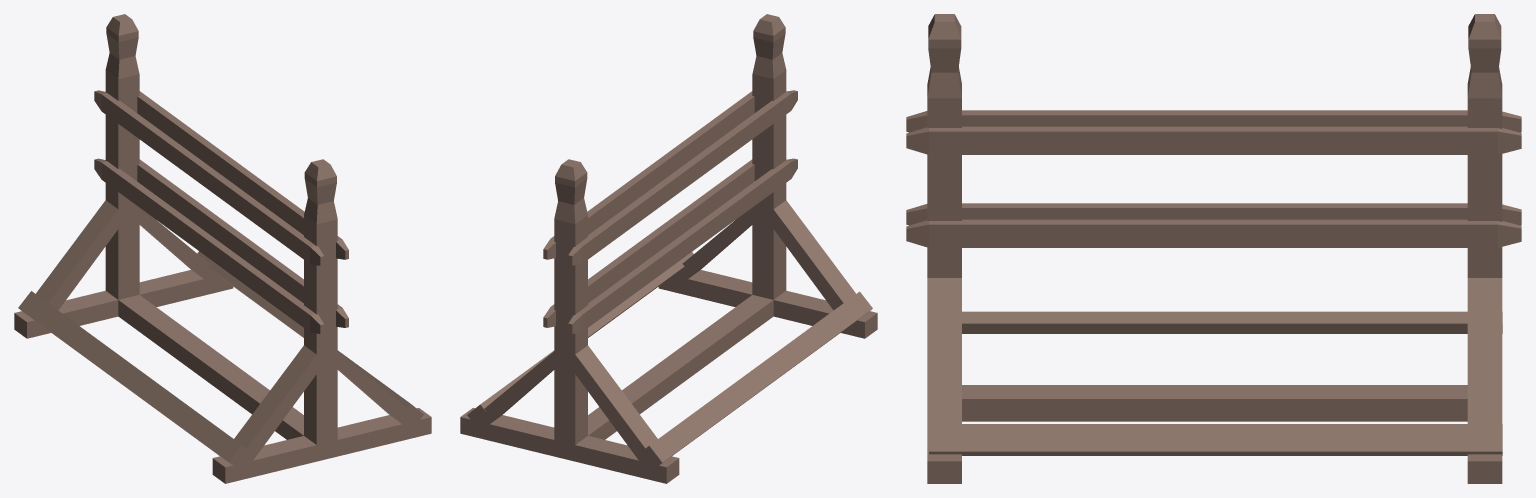
File: weaponStand_size01.fbx
The picture shows the model from 3 angles, left to right: view 1: azimuth 30°, elevation 25°; view 2: azimuth 150°, elevation 25°; view 3: azimuth 270°, elevation 25°; orthographic projection. The views are drawn at different scales.
Visible parts, largest first — view 1: Cube.002; view 2: Cube.002; view 3: Cube.002.
Part boxes in pixels (box(x1,y1,x2,y2)): Cube.002: box(14, 14, 431, 483); Cube.002: box(460, 14, 877, 483); Cube.002: box(906, 14, 1521, 483).
Bounding box in the file's own units: 143 × 192 × 270.
